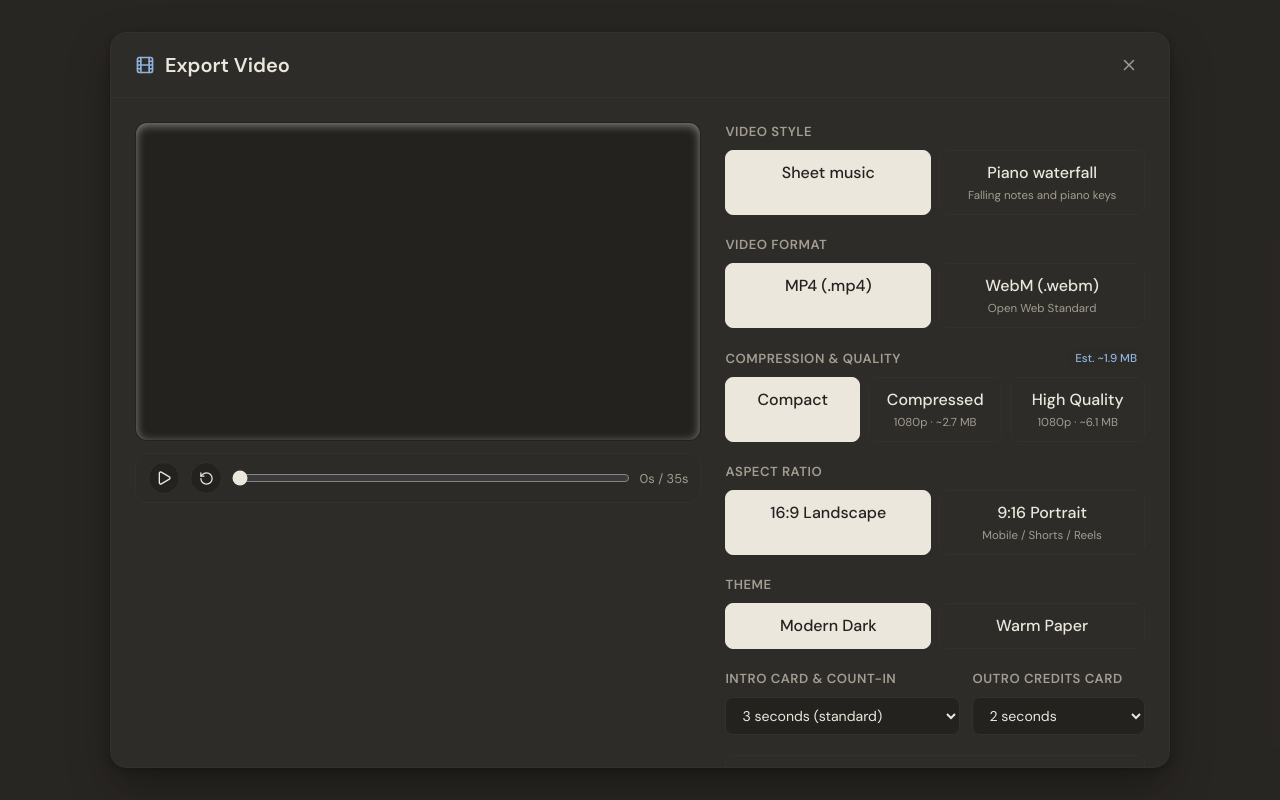
Scenario: ScoreVideoExportModal › updates dynamic file size estimates when changing format or quality tier
Step 1. Click the button "WebM (.webm) Open Web Standard" → (1042, 295), box x1=939 y1=263 x2=1145 y2=328
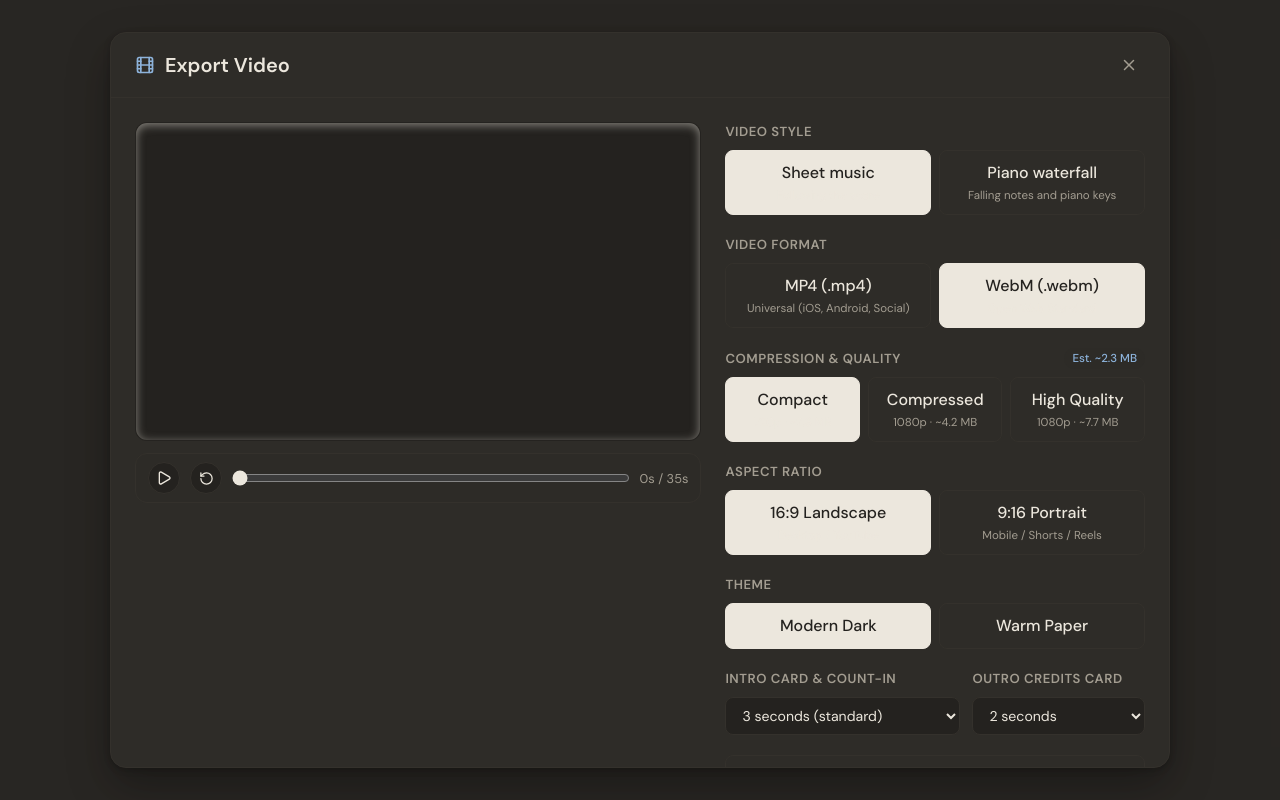
Step 2. Click the button "High Quality 1080p · ~7.7 MB" → (1078, 410), box x1=1010 y1=377 x2=1145 y2=442
(page scrolled)
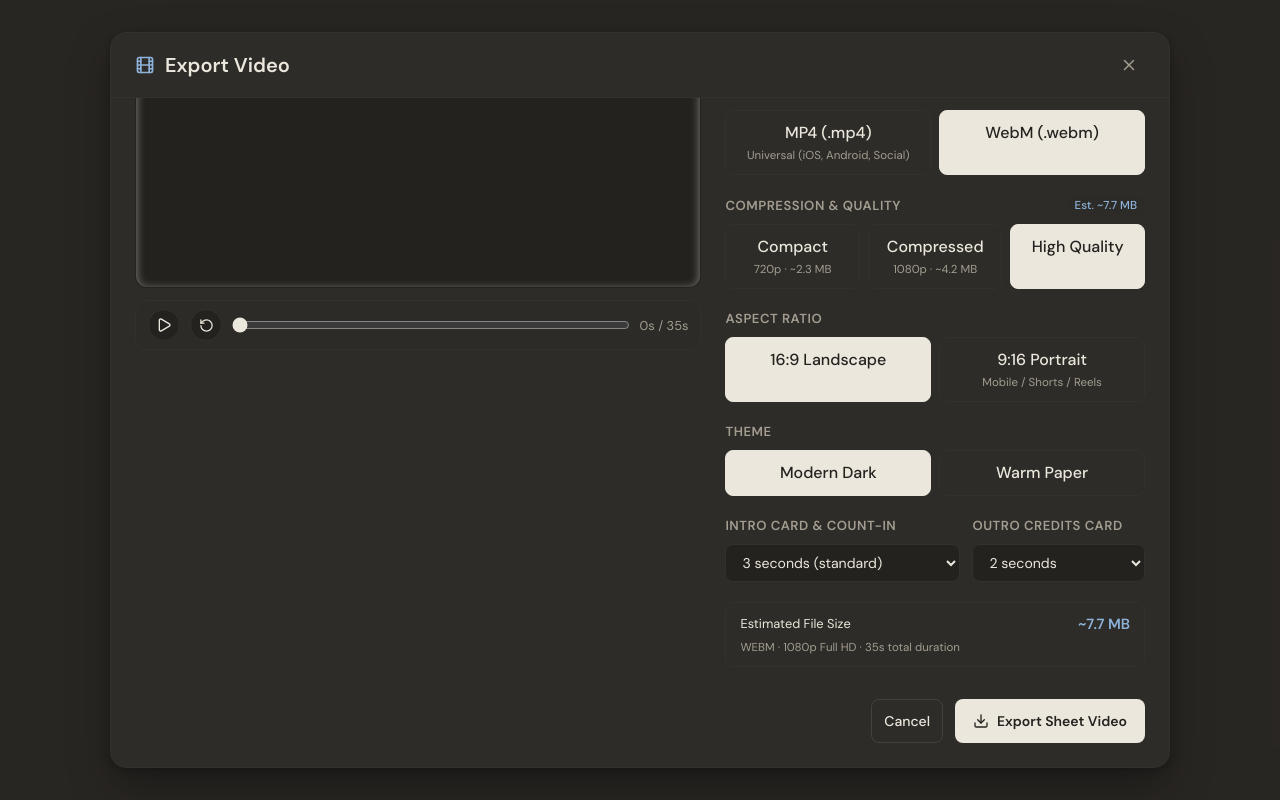
Expected: the element with test id "video-export-estimate-banner" shows "1080p Full HD", x1=783 y1=640 x2=856 y2=655
